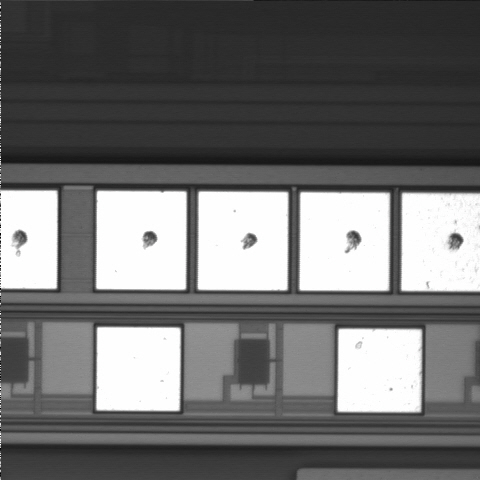pad: (96, 191, 186, 290), (300, 192, 390, 291), (198, 192, 288, 290), (96, 327, 180, 411), (338, 329, 421, 412)
